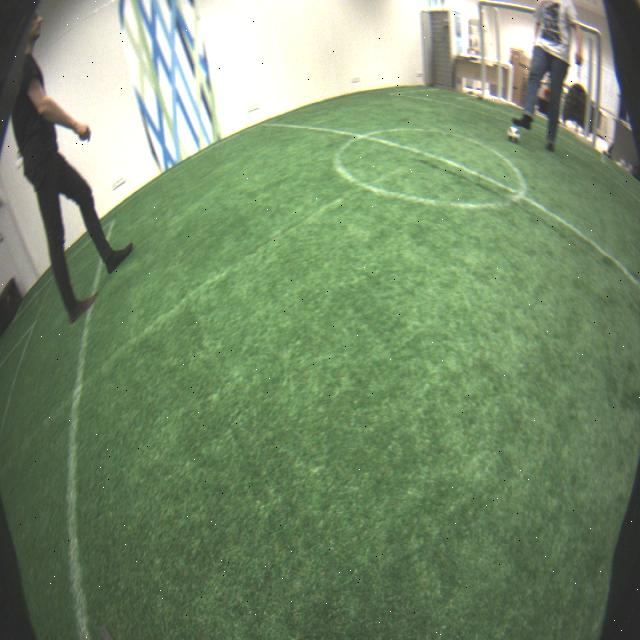ball: (507, 125, 521, 144)
goalpost: (590, 31, 604, 152), (479, 2, 485, 100)
